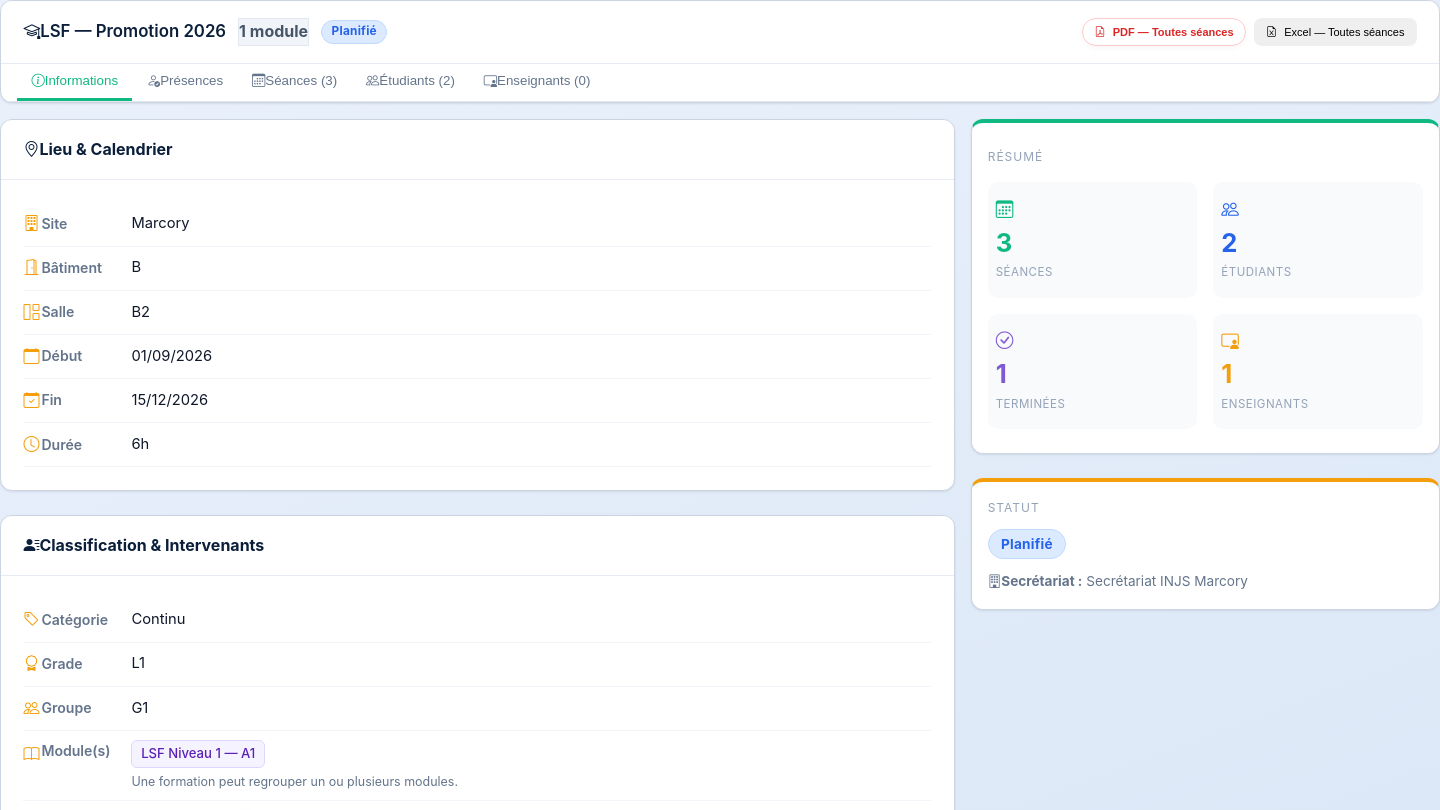
Test case: FormationDetail — onglet Séances (cycle de vie) › démarre une séance planifiée après confirmation (POST start), notifie et recharge
Expected: the text "LSF — Promotion 2026" is shown, [23,18,226,45]
Click the button "Séances (3)" at (295, 82), box [238,64,352,101]
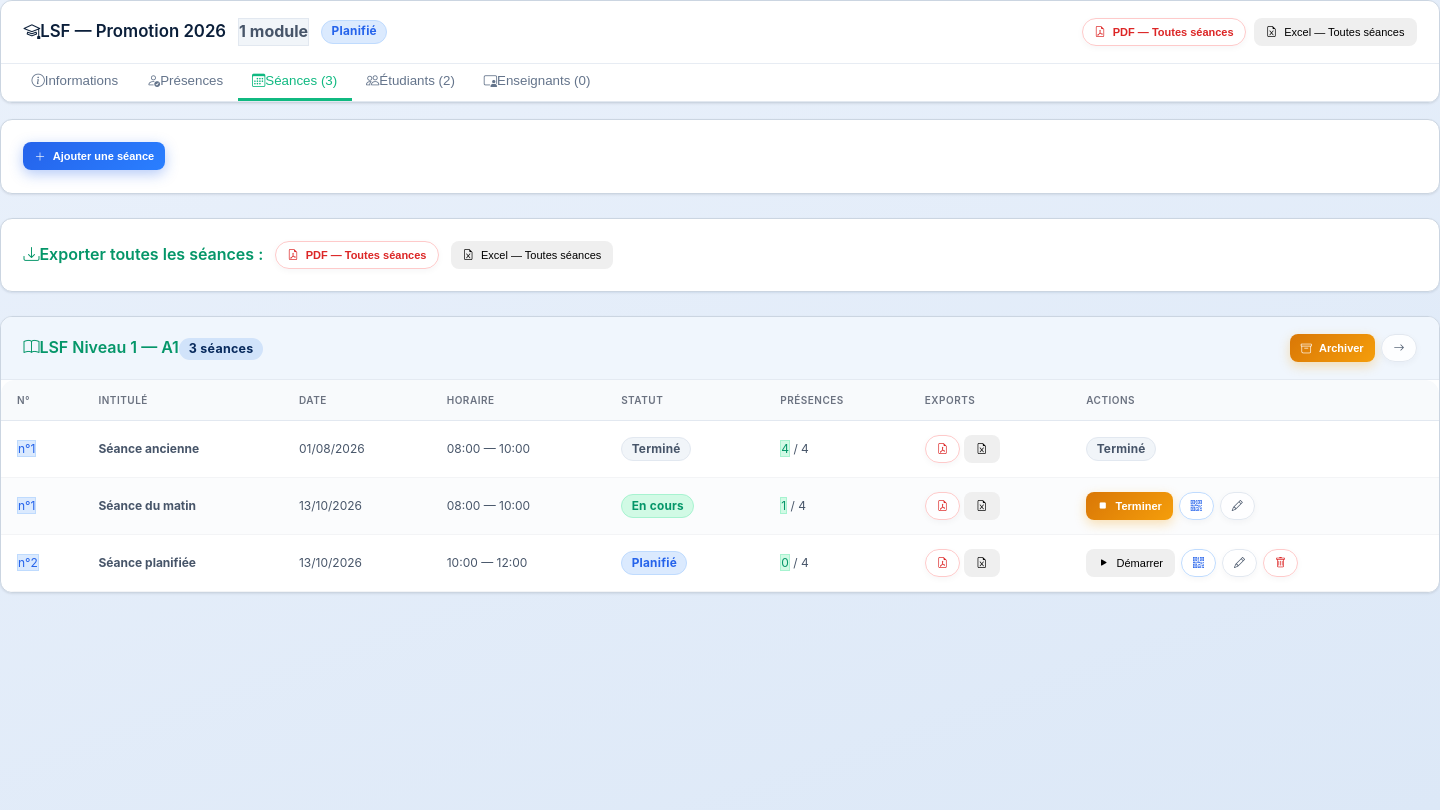
Click the button titled "Démarrer" at (1131, 563), box [1086,549,1175,577]
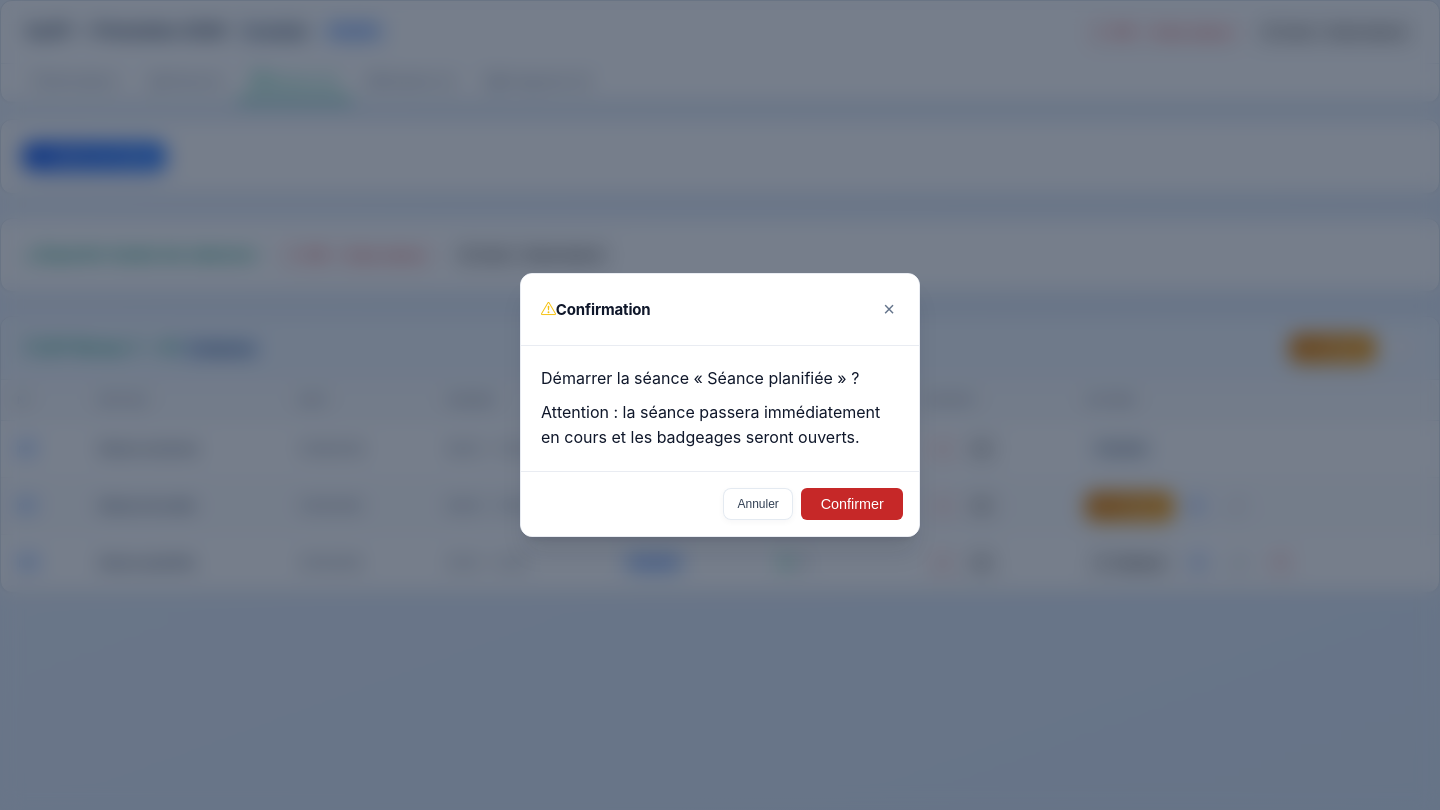
Now the text "Démarrer la séance « Séance planifiée » ?" is shown, box [541,366,899,392]
Click the button "Confirmer" at (852, 504), box [802,488,903,520]
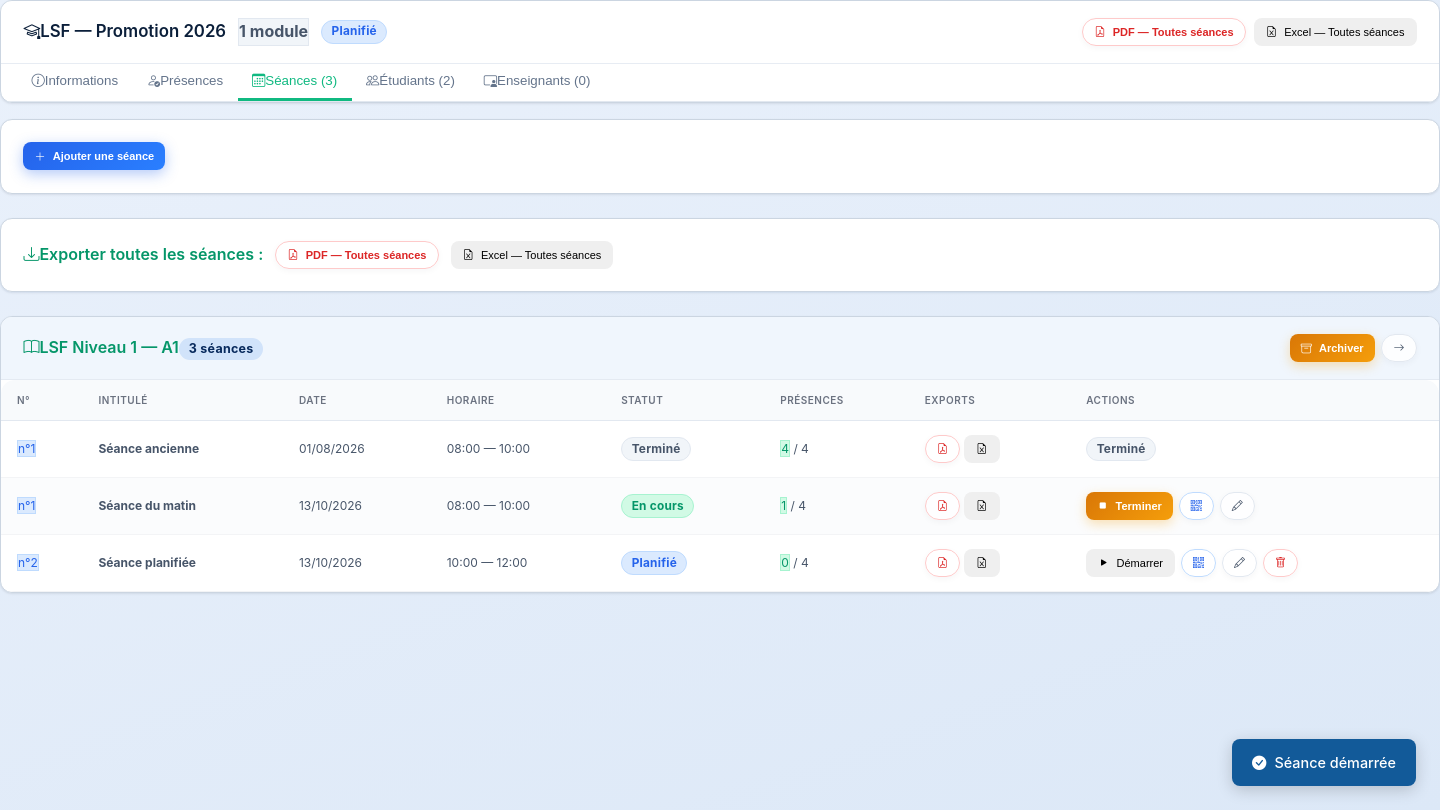
Now the text "Séance démarrée" is shown, box [1232,739,1416,786]
